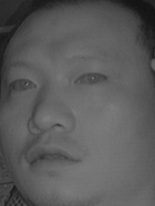eye: (73, 67, 108, 89), (9, 73, 41, 94)
mouth: (20, 139, 84, 175)
